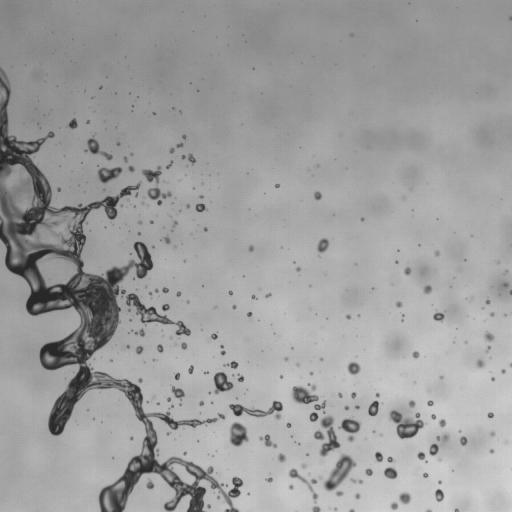droplet: (142, 166, 171, 205), (389, 410, 425, 439), (291, 383, 318, 404), (339, 416, 361, 441), (229, 422, 249, 446), (213, 372, 233, 394), (97, 166, 122, 183), (368, 400, 379, 416), (171, 386, 184, 399), (384, 466, 397, 479), (317, 238, 329, 252), (347, 362, 360, 374), (399, 492, 411, 504), (433, 311, 444, 321), (429, 443, 438, 455), (435, 489, 444, 501), (484, 331, 494, 341), (314, 430, 324, 440), (195, 203, 206, 212), (68, 119, 77, 129), (374, 452, 383, 462), (423, 285, 432, 294), (146, 479, 154, 489), (417, 451, 425, 460), (476, 359, 484, 367), (438, 419, 446, 427), (314, 191, 321, 200), (135, 329, 144, 336), (460, 436, 467, 445), (136, 346, 143, 354), (278, 454, 285, 462), (163, 236, 170, 243), (162, 304, 169, 311), (412, 351, 419, 358), (408, 400, 415, 407), (365, 468, 372, 475), (390, 502, 397, 509), (404, 267, 410, 275), (157, 344, 163, 352), (238, 374, 244, 382), (312, 505, 320, 511), (181, 342, 187, 349), (188, 365, 193, 373), (128, 166, 134, 172), (162, 287, 168, 293), (396, 301, 402, 307), (211, 333, 217, 339), (487, 412, 493, 418), (174, 373, 179, 380), (387, 457, 394, 462), (248, 245, 253, 251), (434, 250, 439, 256), (251, 294, 257, 299), (351, 392, 356, 398), (427, 400, 433, 405), (266, 477, 272, 482), (336, 491, 343, 495), (169, 148, 174, 153), (247, 312, 252, 317), (490, 431, 495, 436), (301, 463, 306, 468), (177, 143, 183, 147), (173, 221, 177, 227), (265, 293, 271, 297), (486, 346, 490, 352), (355, 493, 359, 499), (176, 291, 180, 296), (228, 290, 232, 295), (486, 299, 490, 304), (346, 314, 350, 319), (344, 405, 348, 410), (431, 414, 435, 419), (286, 422, 290, 427), (489, 449, 494, 453), (423, 473, 428, 477), (289, 484, 293, 489), (296, 267, 300, 271), (232, 305, 236, 309), (490, 312, 494, 316), (501, 369, 505, 373), (309, 371, 313, 375), (138, 378, 142, 382), (338, 393, 342, 397), (375, 393, 379, 397), (199, 401, 203, 405), (355, 405, 359, 409), (454, 508, 459, 511), (182, 135, 185, 139), (124, 157, 127, 161), (186, 204, 189, 208), (138, 220, 141, 224), (204, 227, 207, 231), (204, 371, 208, 374), (349, 509, 354, 511), (426, 509, 431, 511), (86, 120, 89, 123), (275, 184, 278, 187), (57, 187, 60, 190), (135, 193, 138, 196), (199, 195, 202, 198), (361, 218, 364, 221), (504, 283, 507, 286), (155, 289, 158, 292), (149, 292, 152, 295), (285, 357, 288, 360), (296, 363, 299, 366), (167, 398, 170, 401), (334, 508, 337, 511), (509, 16, 511, 20), (509, 290, 511, 294), (150, 220, 152, 223), (126, 345, 129, 347), (320, 358, 323, 360), (491, 378, 494, 380), (130, 437, 133, 439), (183, 452, 186, 454), (319, 476, 321, 479), (438, 481, 441, 483), (207, 505, 210, 507), (117, 143, 119, 145), (131, 153, 133, 155), (138, 232, 140, 234), (440, 376, 442, 378), (152, 396, 154, 398), (458, 430, 460, 432), (167, 432, 169, 434), (439, 459, 441, 461)
ligament: (0, 67, 240, 511), (323, 453, 356, 490), (288, 468, 318, 502), (229, 401, 282, 419), (319, 415, 340, 457), (86, 136, 112, 160), (309, 401, 326, 421), (259, 434, 277, 447), (181, 153, 195, 163), (224, 361, 238, 368), (436, 434, 449, 441), (350, 478, 362, 483), (166, 161, 172, 168), (221, 345, 225, 355), (509, 362, 511, 367)
